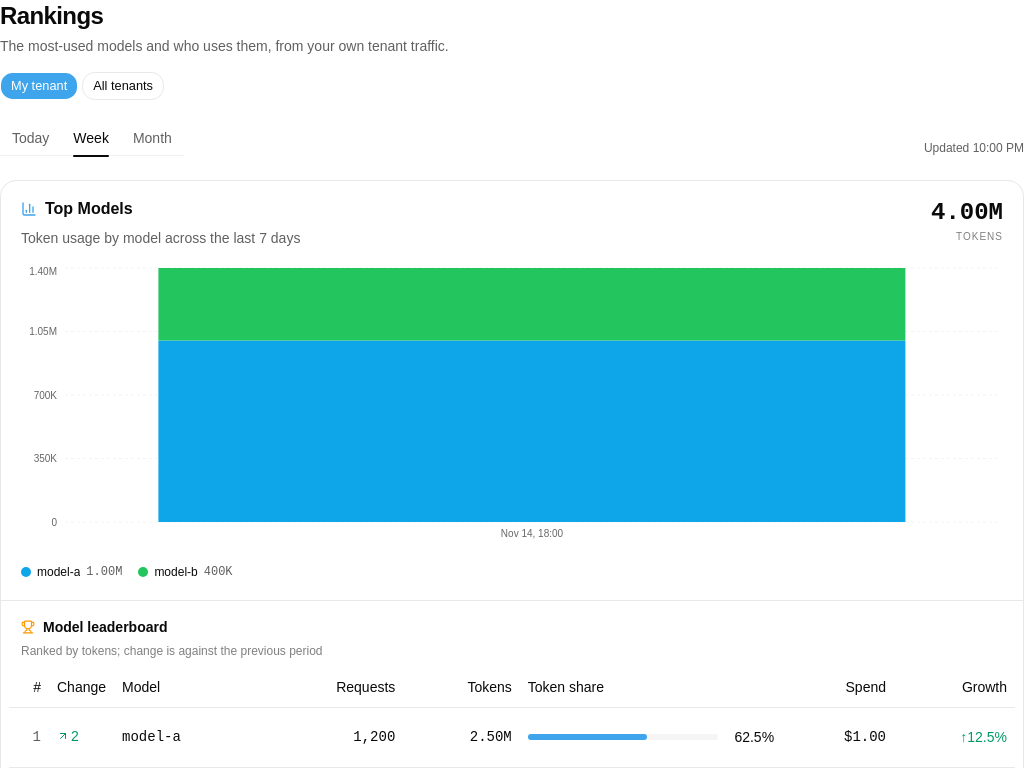
Test: RankingsPage › shows a failed cross-tenant read as an error, not an empty board
Click the button with test id "rankings-scope-all" at (123,86), box [82, 72, 164, 100]
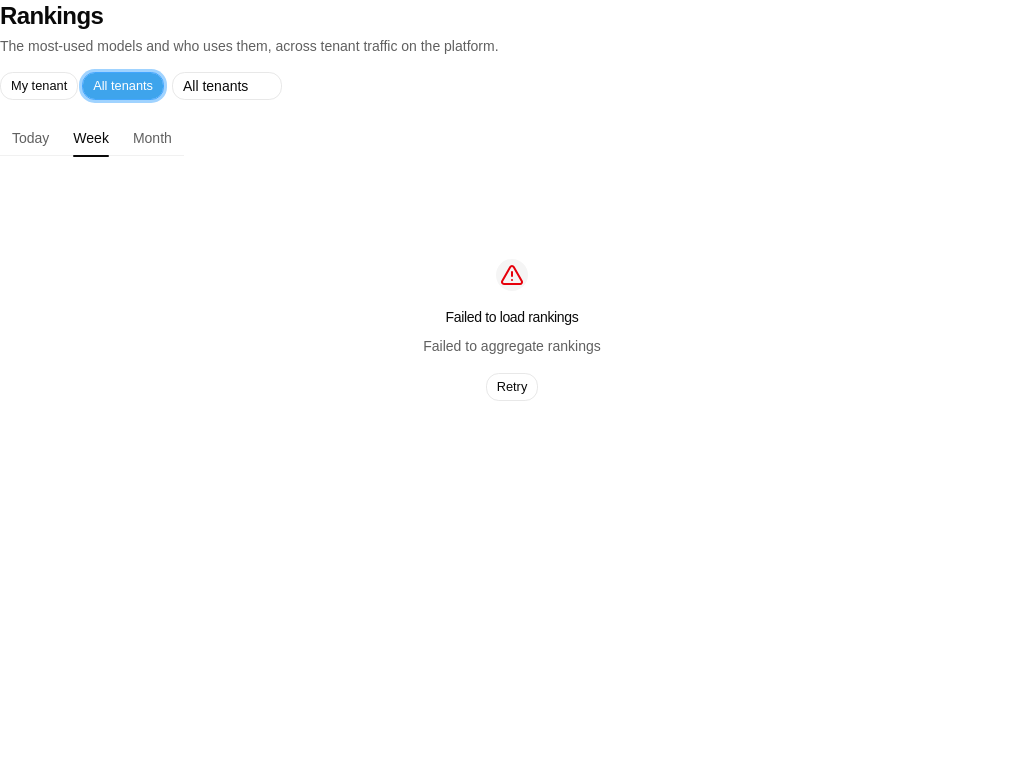
Expected: the element with test id "rankings-error" shows "Failed to aggregate rankings", [423, 338, 601, 354]
